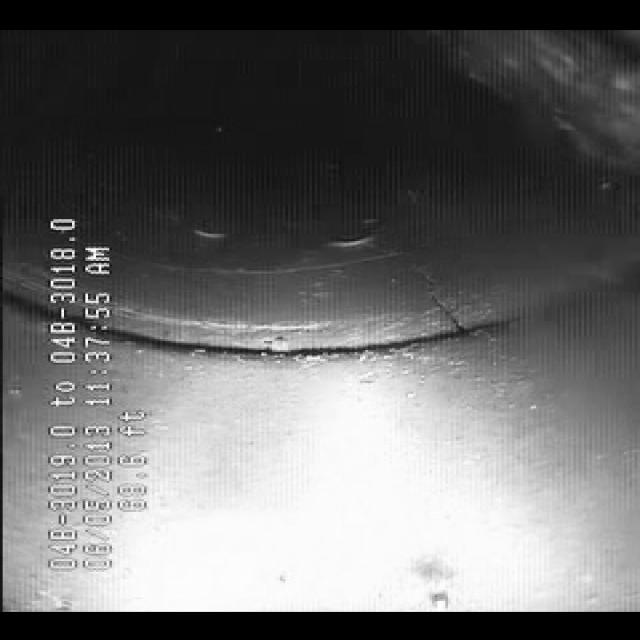Fracture: (132, 240, 506, 374)
